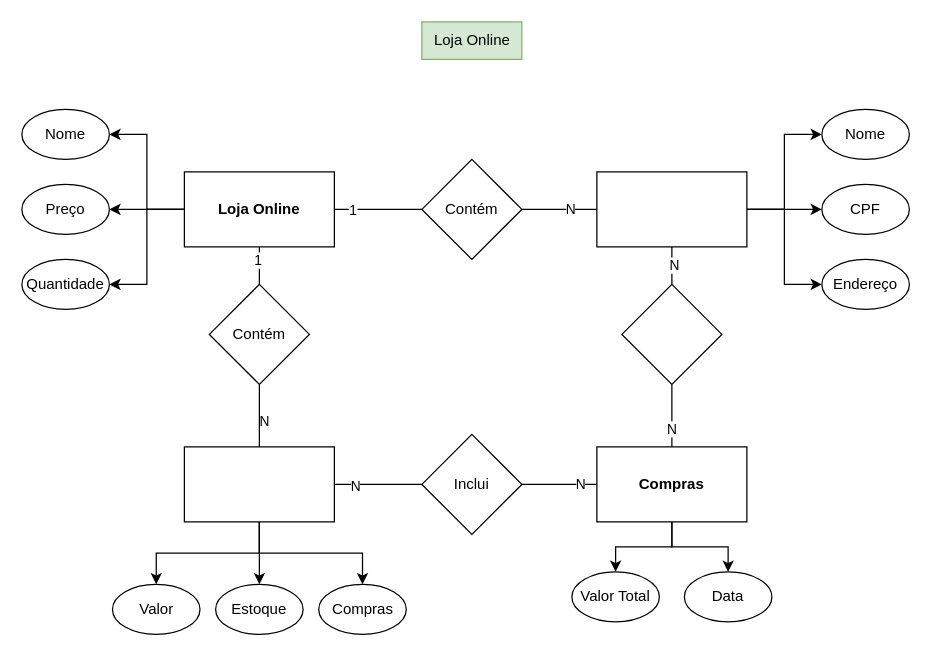
Image size: 931x656. Some labels were removed from this diagram. Here are the shapes that lost their labels. From the top down, the box of each, then its label:
(596, 171, 747, 247): Clientes
(621, 283, 722, 384): Fazem
(183, 446, 334, 522): Produtos
